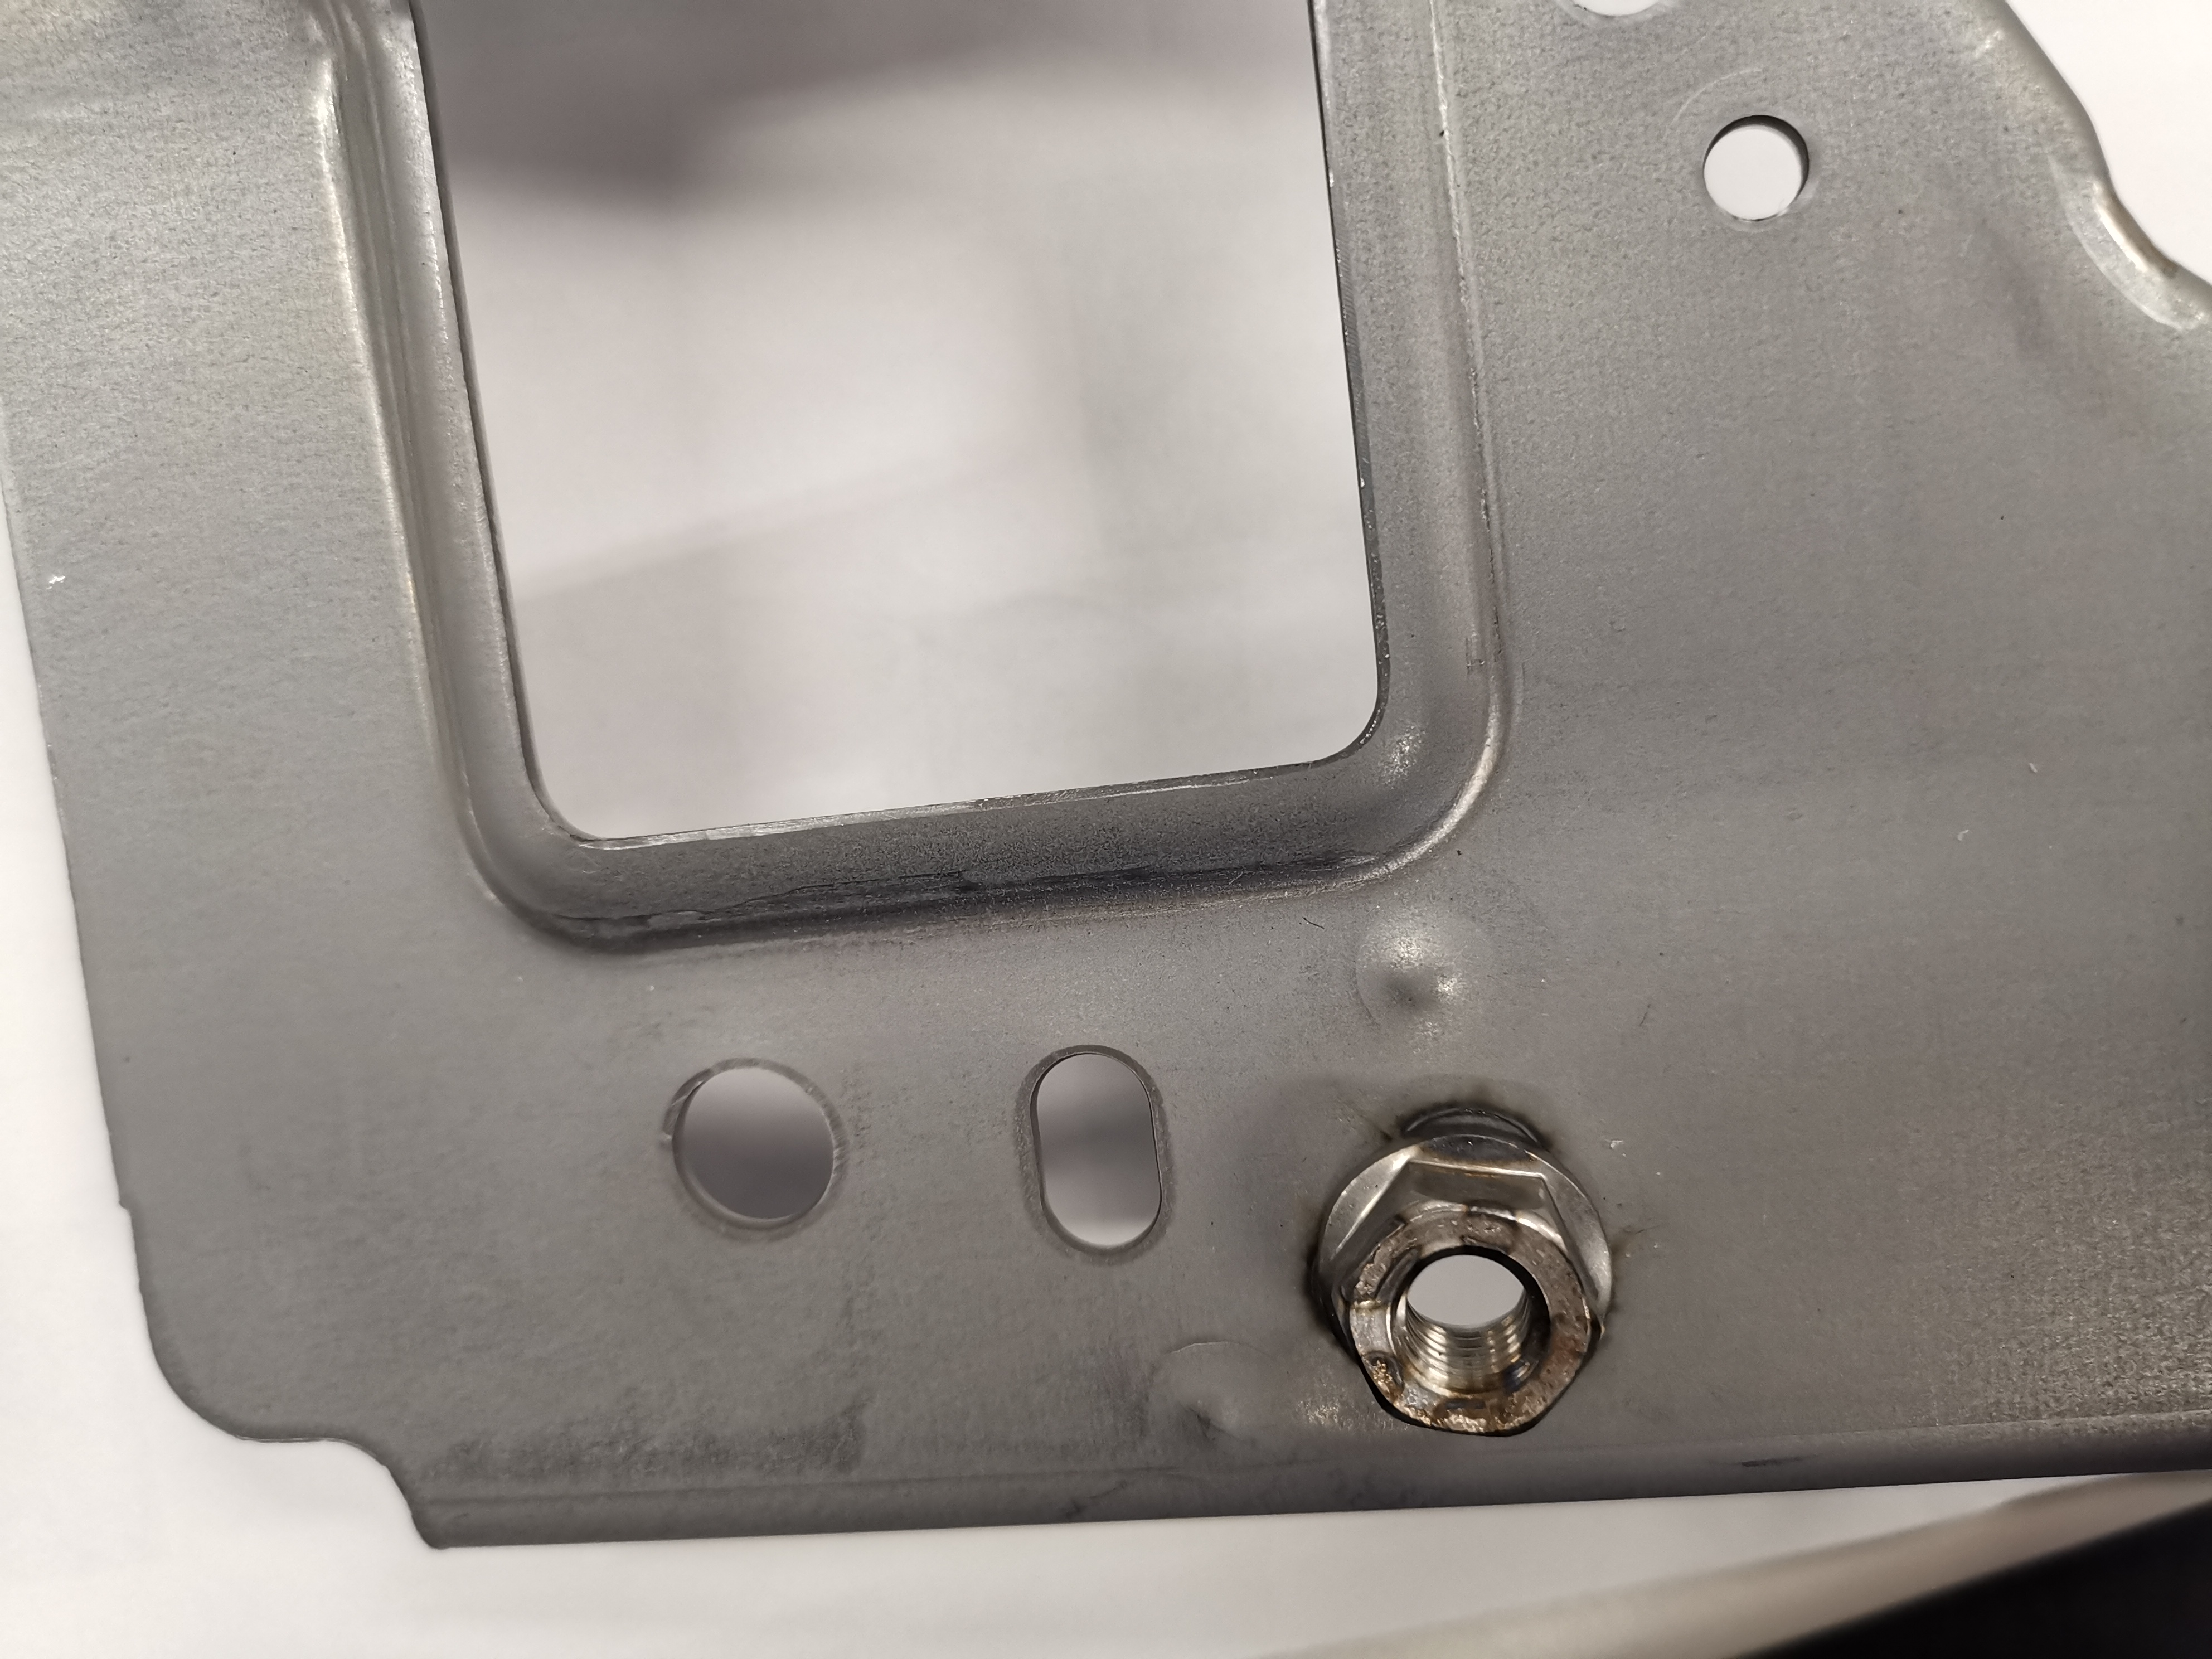dog: (1294, 1096, 1630, 1448)
